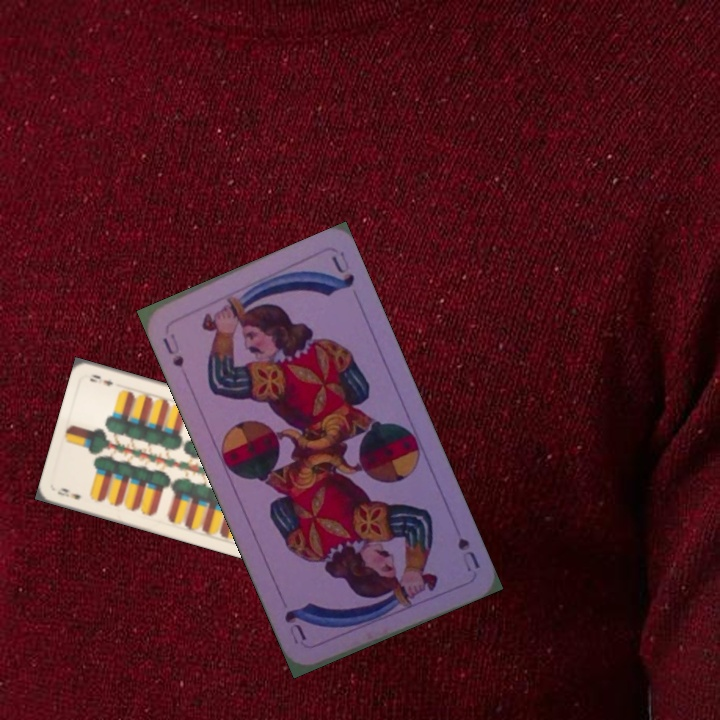E9: (53, 484, 83, 502)
SU: (453, 533, 483, 574), (158, 329, 187, 370)
